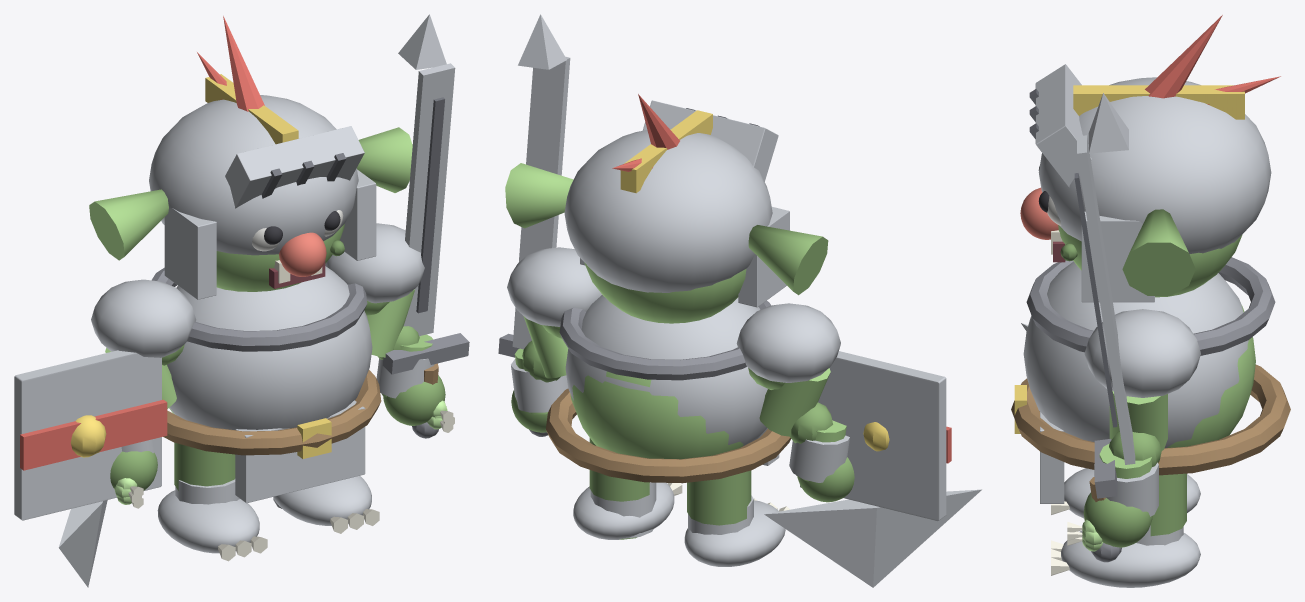
The model's file is troll_knight.glb.
3 renders of one model, left to right at view 1: azimuth 30°, elevation 25°; view 2: azimuth 150°, elevation 25°; view 3: azimuth 270°, elevation 25°, orthographic. The views are drawn at different scales.
Parts seen in each view (by area): view 1: Knight_Breastplate, Knight_Helmet, Knight_Shield, Knight_Pauldron, Knight_Blade, Knight_Tasset, Knight_Visor, Knight_Belt, Knight_ShieldBand, Knight_PlateRim, Knight_Pauldron.001, Knight_Sabaton (+21 smaller); view 2: Knight_Helmet, Knight_Shield, Knight_Breastplate, Knight_ShieldPoint, Knight_Body, Knight_Belt, Knight_Pauldron, Knight_Blade, Knight_Pauldron.001, Knight_PlateRim, Knight_Head, Knight_Ear (+20 smaller); view 3: Knight_Helmet, Knight_Breastplate, Knight_Belt, Knight_Pauldron.001, Knight_PlateRim, Knight_Sabaton.001, Knight_Ear.001, Knight_Blade, Knight_Visor, Knight_CheekGuard.001, Knight_HelmetRidge, Knight_Body (+17 smaller).
Part boxes in pixels (<box>): Knight_Breastplate: <box>167,266,372,429</box>; Knight_Helmet: <box>149,95,358,255</box>; Knight_Shield: <box>14,350,161,520</box>; Knight_Pauldron: <box>91,279,196,357</box>; Knight_Blade: <box>403,63,455,336</box>; Knight_Tasset: <box>235,400,365,503</box>; Knight_Visor: <box>225,126,364,208</box>; Knight_Belt: <box>163,370,381,455</box>; Knight_ShieldBand: <box>20,399,167,470</box>; Knight_PlateRim: <box>152,267,367,351</box>; Knight_Pauldron.001: <box>325,223,424,303</box>; Knight_Sabaton: <box>157,490,259,553</box>; Knight_Helmet: <box>564,128,772,292</box>; Knight_Shield: <box>800,351,946,520</box>; Knight_Breastplate: <box>565,295,767,446</box>; Knight_ShieldPoint: <box>764,489,981,587</box>; Knight_Body: <box>570,371,743,459</box>; Knight_Belt: <box>546,388,790,483</box>; Knight_Pauldron: <box>736,303,840,382</box>; Knight_Blade: <box>512,56,570,349</box>; Knight_Pauldron.001: <box>507,247,602,326</box>; Knight_PlateRim: <box>559,300,770,380</box>; Knight_Head: <box>584,262,746,323</box>; Knight_Ear: <box>748,225,828,295</box>; Knight_Helmet: <box>1038,77,1271,254</box>; Knight_Breastplate: <box>1023,261,1248,448</box>; Knight_Belt: <box>1011,364,1290,475</box>; Knight_Pauldron.001: <box>1084,309,1200,397</box>; Knight_PlateRim: <box>1026,257,1275,355</box>; Knight_Sabaton.001: <box>1061,530,1200,587</box>; Knight_Ear.001: <box>1122,209,1195,295</box>; Knight_Blade: <box>1077,135,1135,464</box>; Knight_Visor: <box>1035,64,1091,187</box>; Knight_CheekGuard.001: <box>1081,211,1154,302</box>; Knight_HelmetRidge: <box>1073,85,1244,119</box>; Knight_Body: <box>1167,305,1255,447</box>.
Size of the model in its own units: 1.61 by 1.7 by 0.7889.
